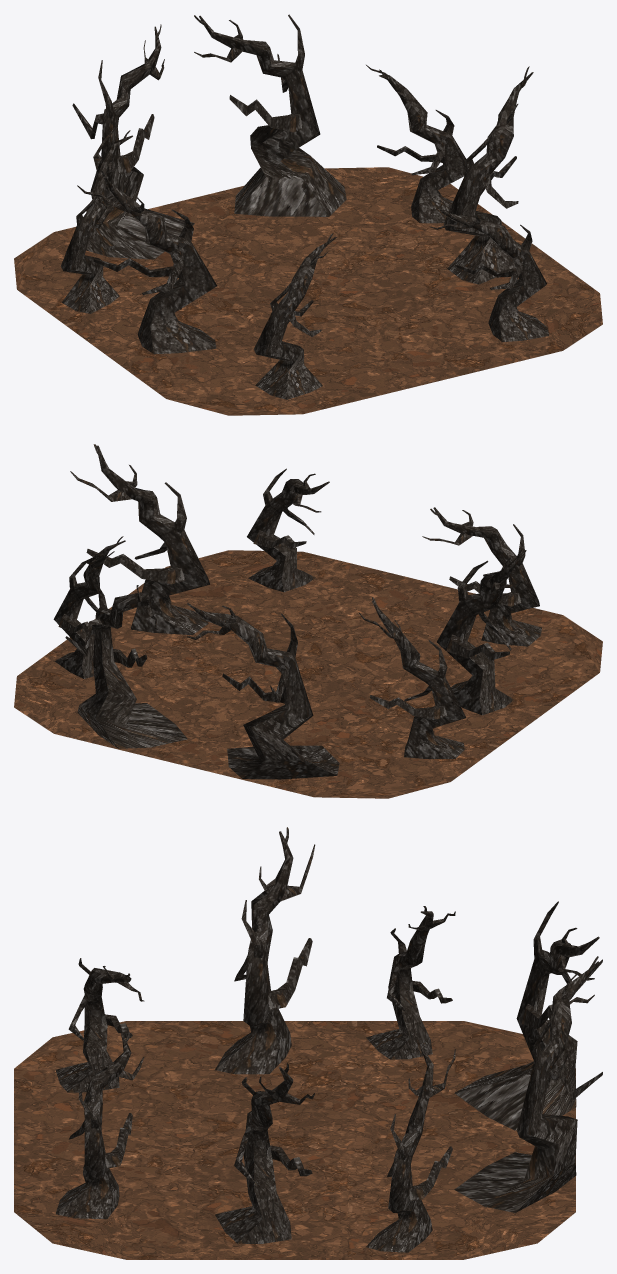
Rendered from field.fbx.
3 views of the same model, one above another, from view 1: azimuth 30°, elevation 25°; view 2: azimuth 150°, elevation 25°; view 3: azimuth 270°, elevation 25° (orthographic). The views are drawn at different scales.
Visible parts, largest first — view 1: ground, Tree8, Tree3, Tree7, Tree4, Tree1, Tree2, Tree5, Tree6; view 2: ground, Tree7, Tree8, Tree4, Tree3, Tree6, Tree2, Tree1, Tree5; view 3: ground, Tree8, Tree3, Tree7, Tree4, Tree1, Tree5, Tree6, Tree2.
Part boxes in pixels (box(x1,y1,x2,y2)): ground: box(14, 167, 602, 415); Tree8: box(194, 14, 346, 216); Tree3: box(77, 170, 216, 354); Tree7: box(72, 24, 194, 259); Tree4: box(443, 66, 533, 284); Tree1: box(429, 207, 549, 342); Tree2: box(253, 233, 336, 399); Tree5: box(366, 65, 466, 223); Tree6: box(60, 125, 132, 313); ground: box(14, 550, 602, 798); Tree7: box(187, 603, 339, 779); Tree8: box(65, 568, 187, 748); Tree4: box(70, 444, 210, 634); Tree3: box(436, 548, 526, 715); Tree6: box(358, 597, 466, 758); Tree2: box(422, 507, 541, 646); Tree1: box(247, 468, 329, 592); Tree5: box(53, 536, 125, 678); ground: box(14, 1021, 575, 1259); Tree8: box(454, 956, 602, 1212); Tree3: box(215, 827, 315, 1074); Tree7: box(454, 901, 602, 1130); Tree4: box(215, 1063, 314, 1243); Tree1: box(55, 1031, 144, 1219); Tree5: box(366, 1043, 455, 1252); Tree6: box(366, 906, 455, 1059); Tree2: box(55, 958, 144, 1092).
Bounding box in the file's own units: 26.45 × 9.82 × 26.45.
2 materials, 2 textured.
